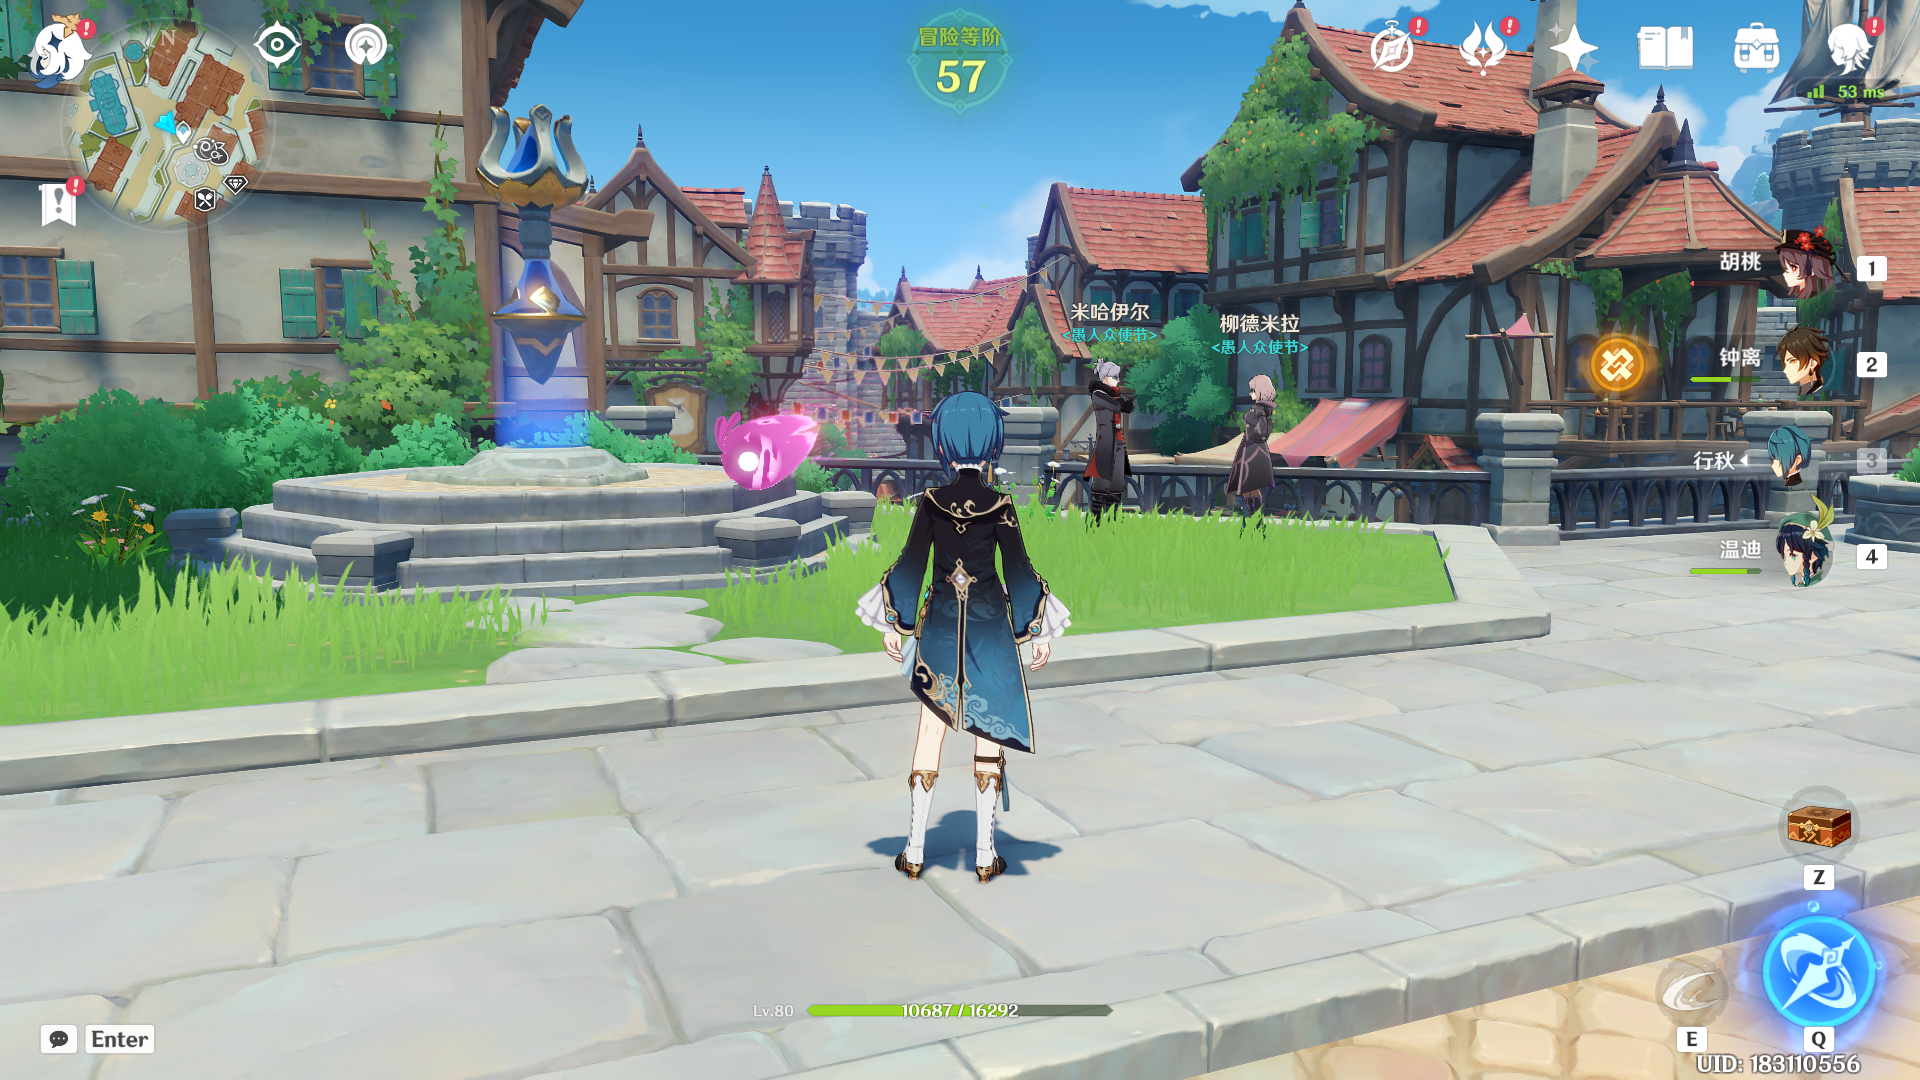character: (840, 345, 1108, 914)
